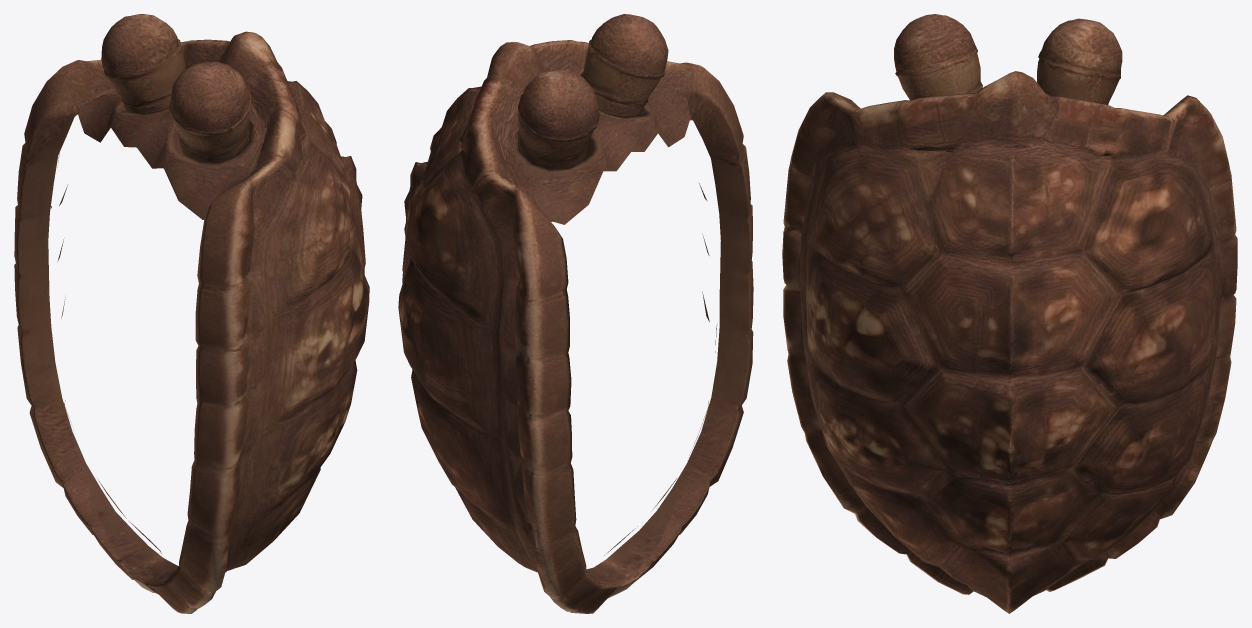
File: IChing_Shell_Tripo.glb
The picture shows the model from 3 angles, left to right: view 1: azimuth 30°, elevation 25°; view 2: azimuth 150°, elevation 25°; view 3: azimuth 270°, elevation 25°; orthographic projection. The views are drawn at different scales.
Parts seen in each view (by area): view 1: tripo_node_aa2d8444-0cef-4961-842d-d28fc315c860; view 2: tripo_node_aa2d8444-0cef-4961-842d-d28fc315c860; view 3: tripo_node_aa2d8444-0cef-4961-842d-d28fc315c860.
Part boxes in pixels (x1=…): tripo_node_aa2d8444-0cef-4961-842d-d28fc315c860: x1=14, y1=14, x2=369, y2=613; tripo_node_aa2d8444-0cef-4961-842d-d28fc315c860: x1=398, y1=14, x2=753, y2=613; tripo_node_aa2d8444-0cef-4961-842d-d28fc315c860: x1=782, y1=14, x2=1237, y2=613.
Bounding box in the file's own units: 0.4902 × 0.998 × 0.709.
1 material, 1 textured.
